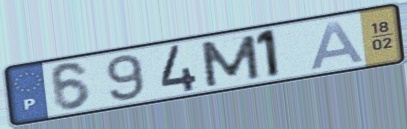1: (253, 26, 283, 80)
4: (158, 43, 200, 94)
6: (50, 60, 94, 113)
9: (102, 52, 148, 103)
A: (308, 18, 368, 71)
M: (196, 32, 263, 90)
